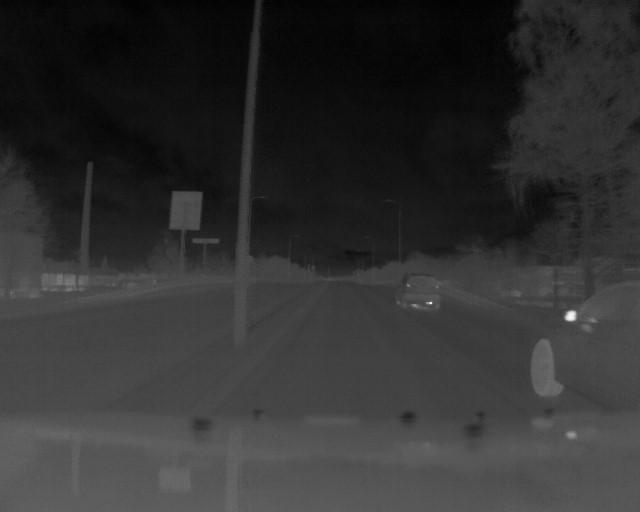car: (525, 281, 640, 410), (391, 272, 445, 313)
